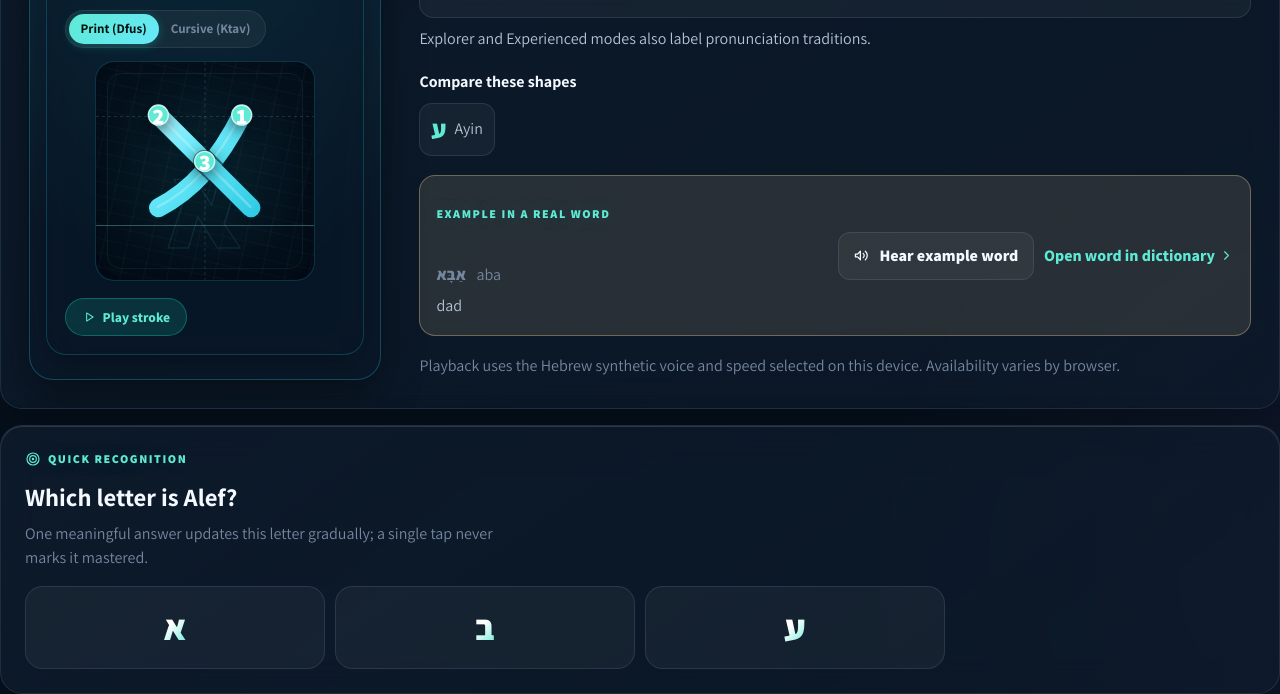
Scenario: AlphabetStudio › lets a demo explore without claiming that progress was saved
(page scrolled)
Click the button named "Option 1: א": [175, 628] box top-left (25, 586), bottom-right (325, 669)
(page scrolled)
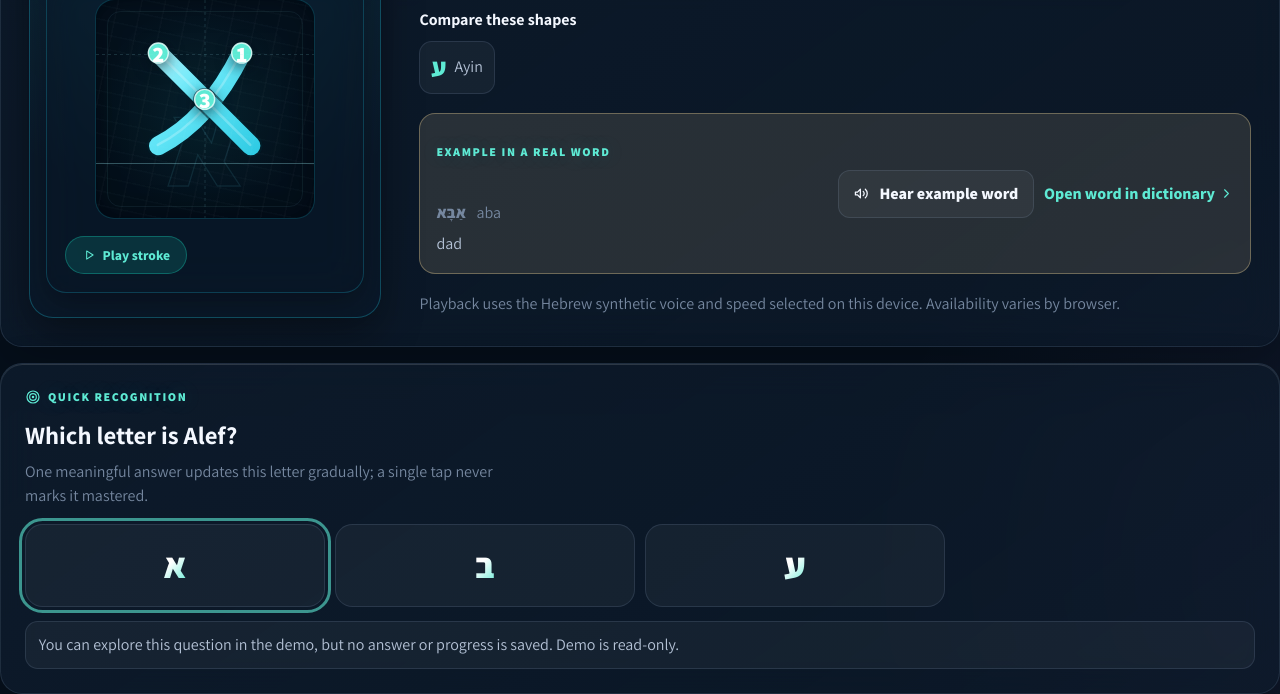
Expected: the text "no answer or progress is saved" is shown, top-left (39, 634), bottom-right (679, 655)
